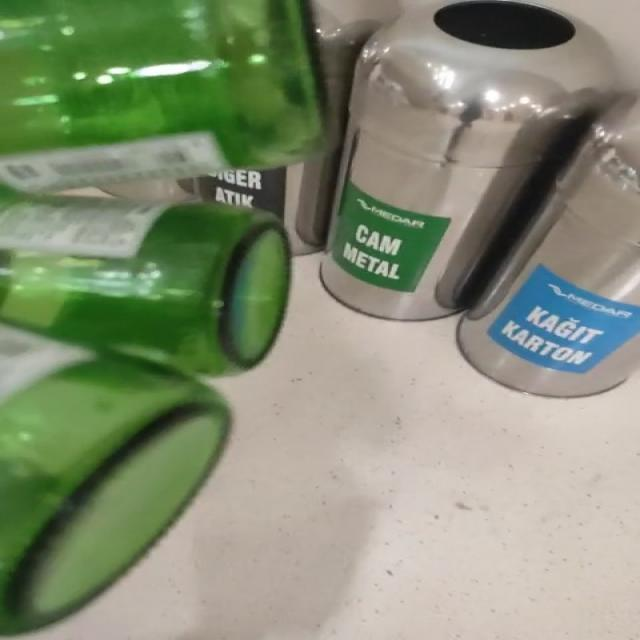Glass: (0, 0, 323, 636)
